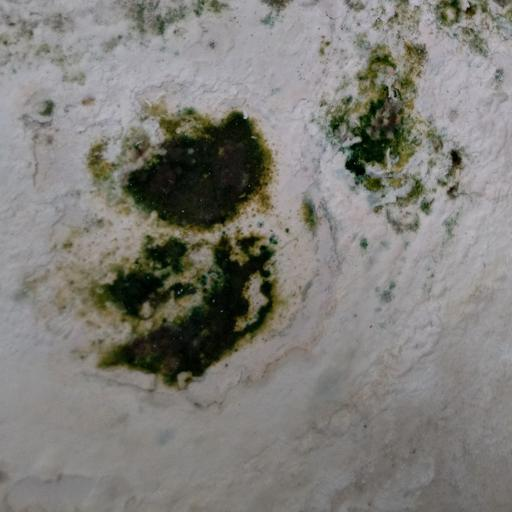algae: (55, 34, 479, 381)
